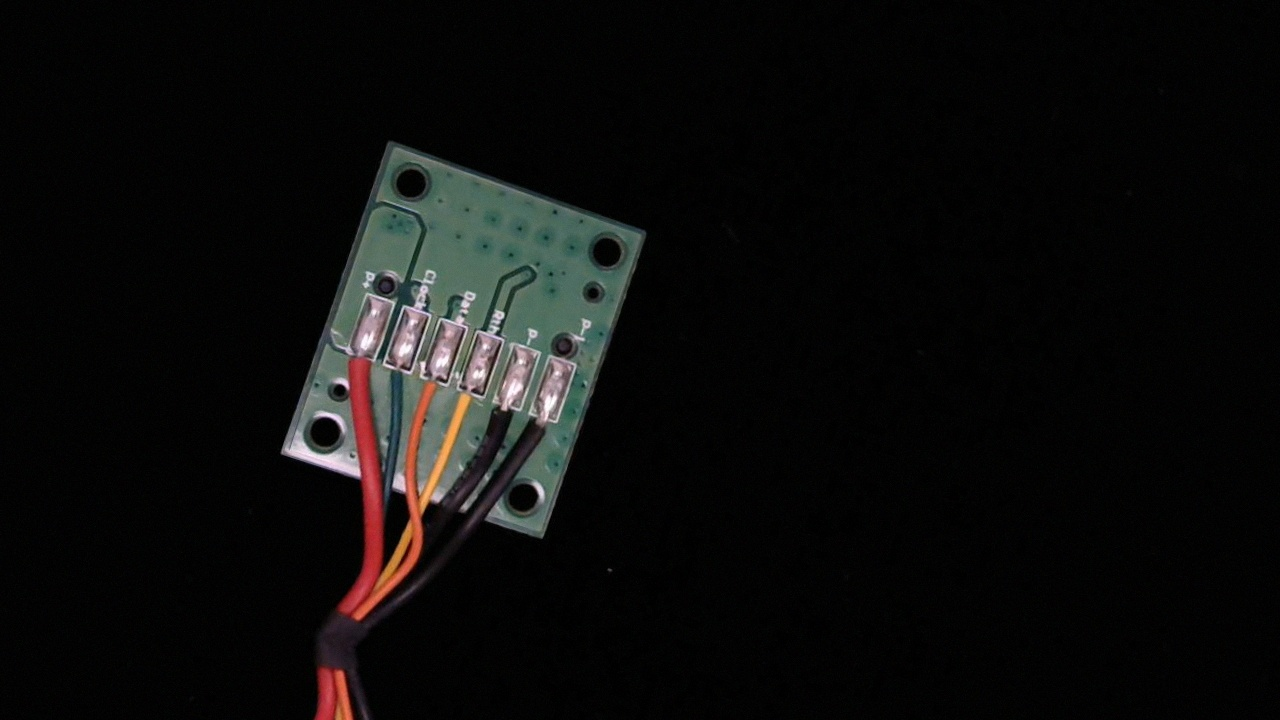Black: (475, 380, 530, 460)
Black1: (514, 395, 565, 468)
Green: (370, 338, 423, 415)
Orange: (402, 357, 454, 435)
Red: (333, 330, 386, 407)
Yellow: (438, 371, 493, 451)
